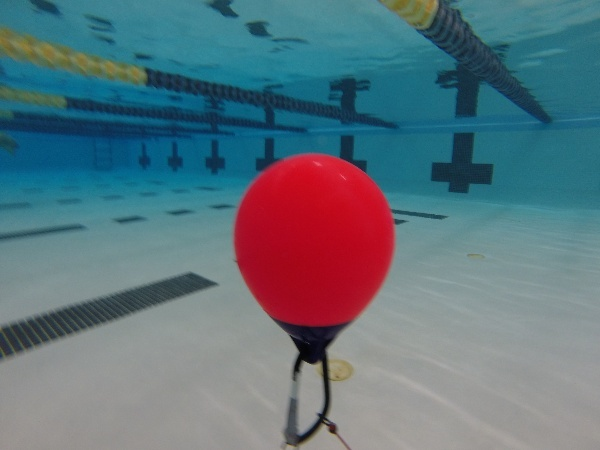buoy_red: (229, 150, 395, 370)
